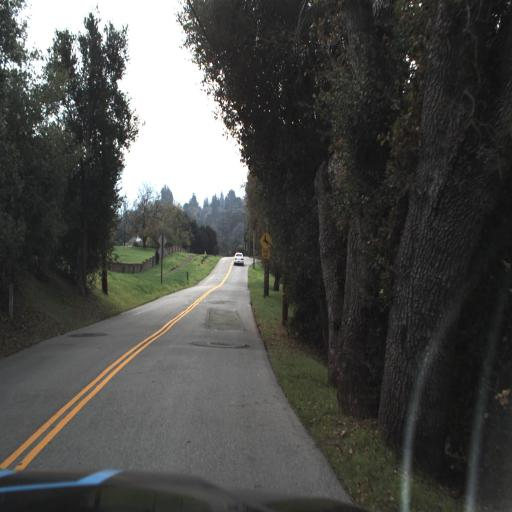car: (229, 248, 247, 270)
